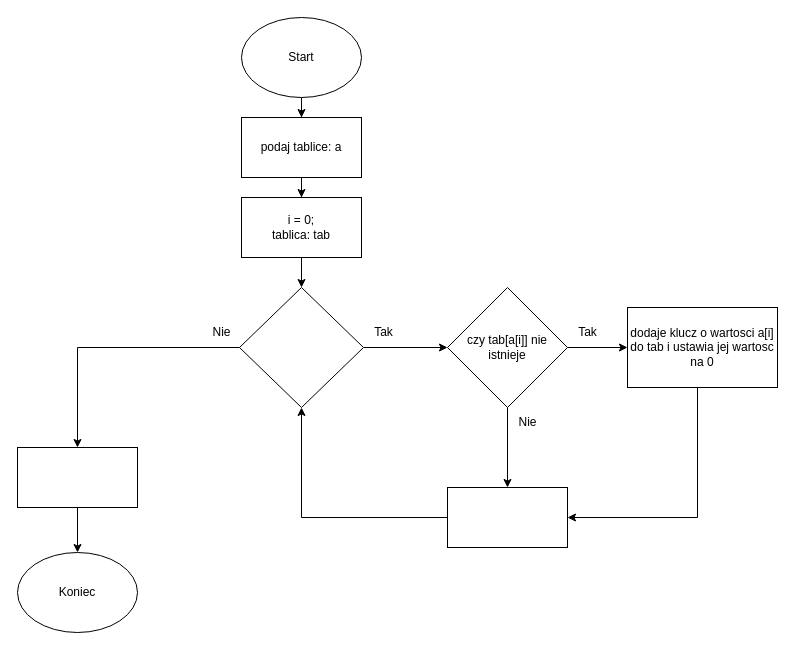
This 795x650 diagram has some shape labels left out. Here are the shapes that lost their labels. From the top down, the centre of each, then its label:
[301,347]: i < długość tablicy a
[77,477]: pokaz tablice tab
[507,517]: tab[a[i]]++ i++
